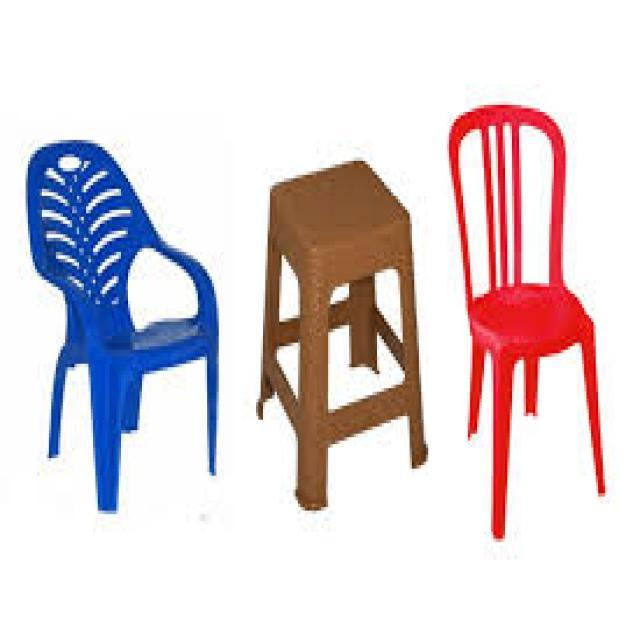chair: (16, 90, 252, 547), (260, 119, 447, 534), (445, 88, 602, 547)
